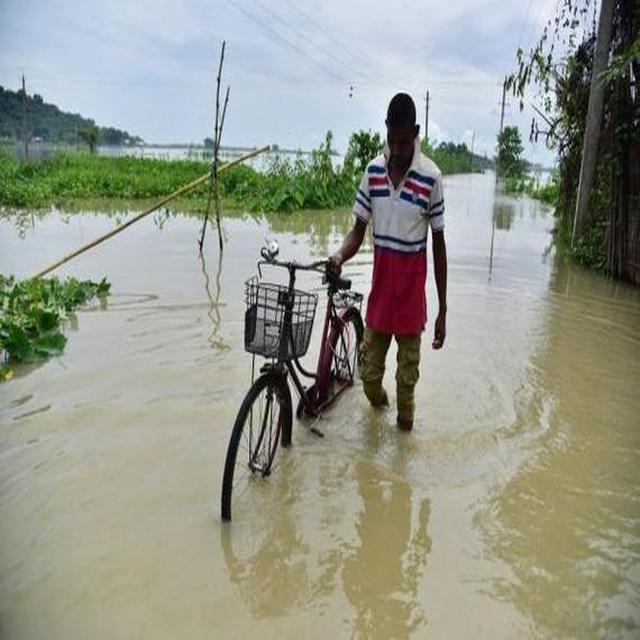Person-RiskLevel2: (319, 85, 457, 438)
